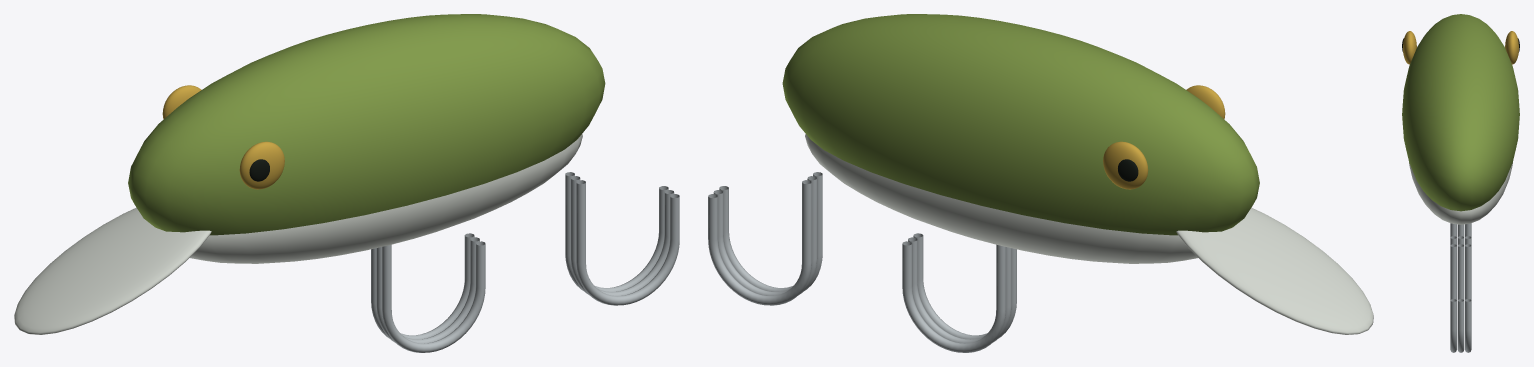
File: crankbait.glb
3 renders of one model, left to right at view 1: azimuth 30°, elevation 25°; view 2: azimuth 150°, elevation 25°; view 3: azimuth 270°, elevation 25°, orthographic. The views are drawn at different scales.
Parts seen in each view (by area): view 1: plug body, diving bill, belly, barbless hook.007, barbless hook.004, barbless hook.005, barbless hook.006, barbless hook.002, barbless hook.003, eye.008, eye.009; view 2: plug body, diving bill, belly, barbless hook.006, barbless hook.003, barbless hook.005, barbless hook.007, barbless hook.004, barbless hook.002, eye.009, eye.008; view 3: plug body, belly, barbless hook.005, barbless hook.006, barbless hook.007, eye.008, eye.009, barbless hook.002, barbless hook.003, barbless hook.004.
Part boxes in pixels (x1,y1,x2,y2): plug body: (128,14,605,235); diving bill: (14,207,211,334); belly: (190,134,582,263); barbless hook.007: (576,180,679,305); barbless hook.004: (382,241,485,352); barbless hook.005: (570,176,674,295); barbless hook.006: (565,172,668,291); barbless hook.002: (376,237,479,343); barbless hook.003: (371,233,474,339); eye.008: (239,141,284,189); eye.009: (162,85,201,119); plug body: (782,14,1259,235); diving bill: (1176,207,1373,334); belly: (805,134,1197,263); barbless hook.006: (708,180,811,305); barbless hook.003: (902,241,1005,352); barbless hook.005: (713,176,817,295); barbless hook.007: (719,172,822,291); barbless hook.004: (913,233,1016,339); barbless hook.002: (908,237,1011,343); eye.009: (1103,141,1148,189); eye.008: (1186,85,1225,119); plug body: (1402,14,1519,211); belly: (1409,162,1512,224); barbless hook.005: (1457,244,1464,352); barbless hook.006: (1465,244,1471,352); barbless hook.007: (1450,244,1456,352); eye.008: (1403,31,1416,64); eye.009: (1505,31,1518,64); barbless hook.002: (1457,224,1464,244); barbless hook.003: (1465,223,1471,245); barbless hook.004: (1450,223,1456,244).
Bounding box in the file's own units: 1.79 × 0.858 × 0.42.
